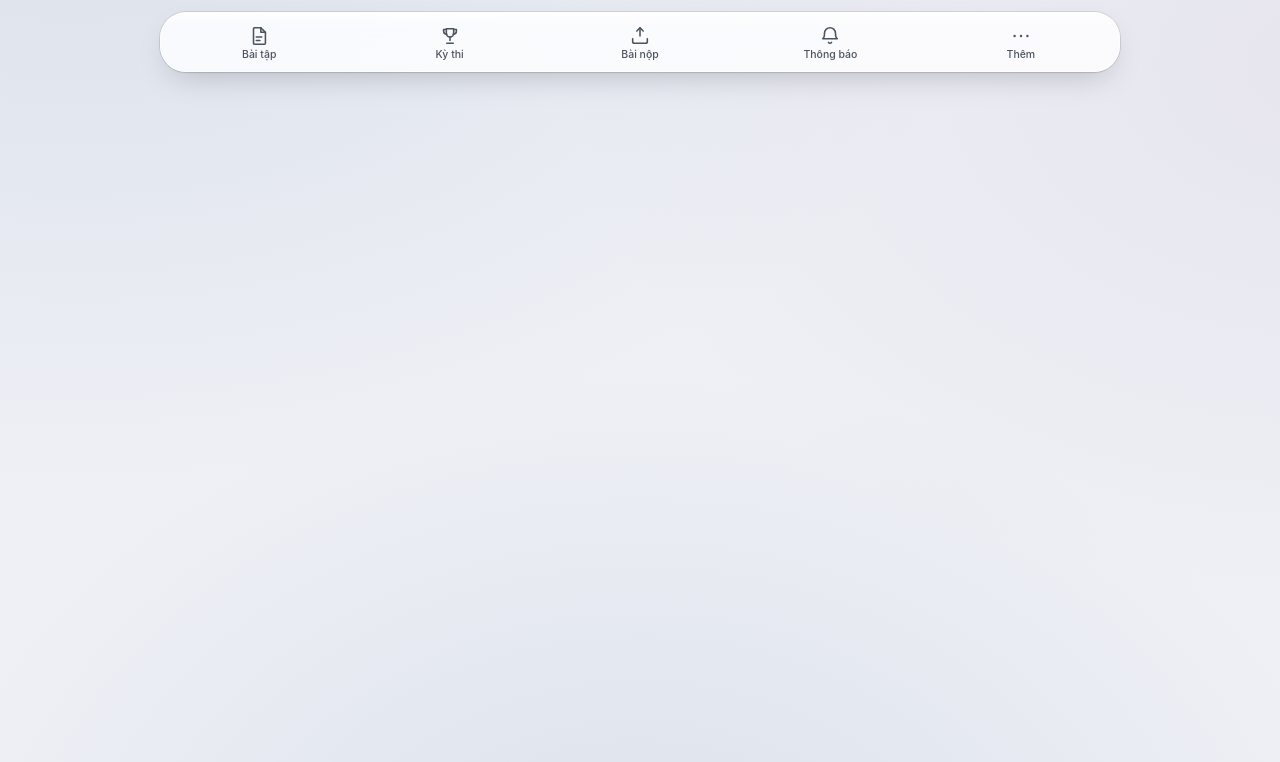
Test case: the More sheet › is a modal, announced as one, and says so on the button that opens it
Click the button "Thêm". click: (1021, 44)
box: [927,17,1115,71]
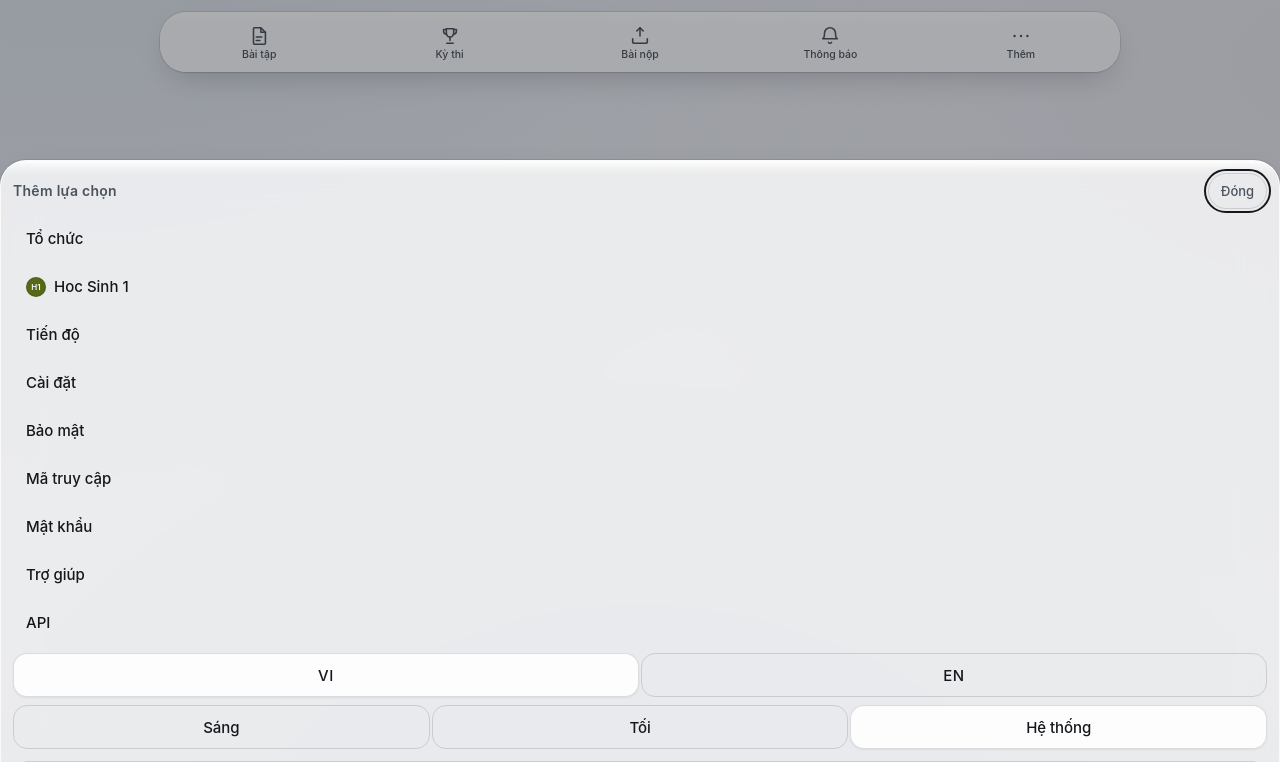
Check: the button "Thêm" is expanded, box [927,17,1115,71]
